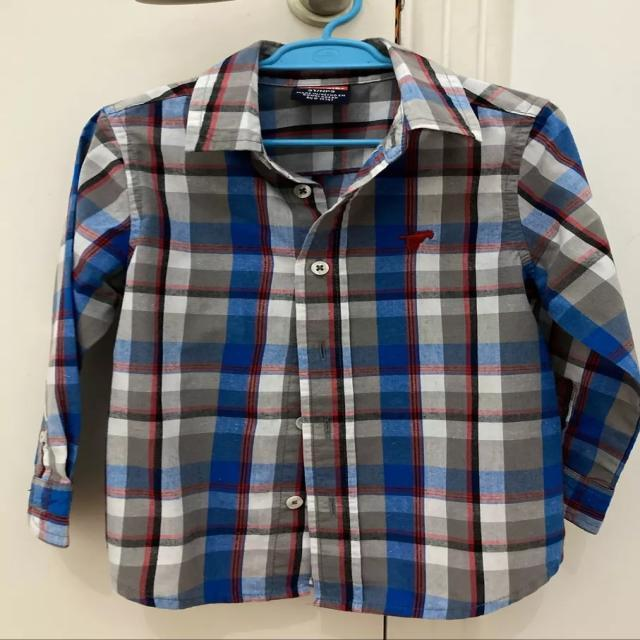long sleeve shirt: (25, 36, 640, 623)
